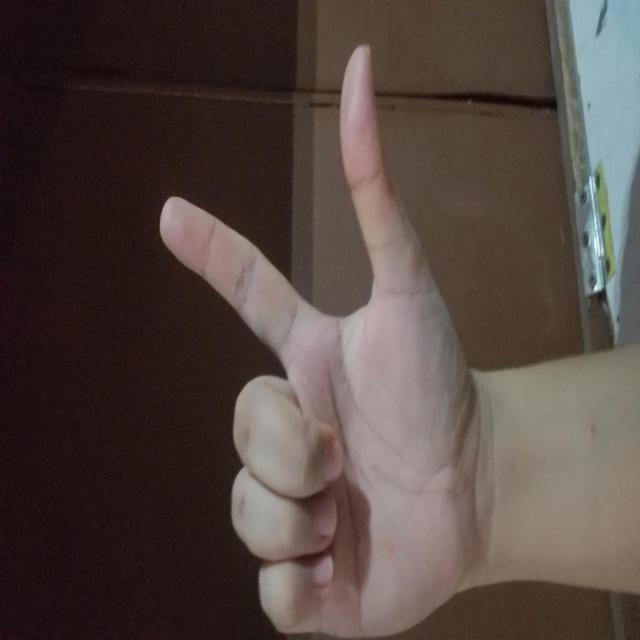L: (0, 159, 596, 474)
